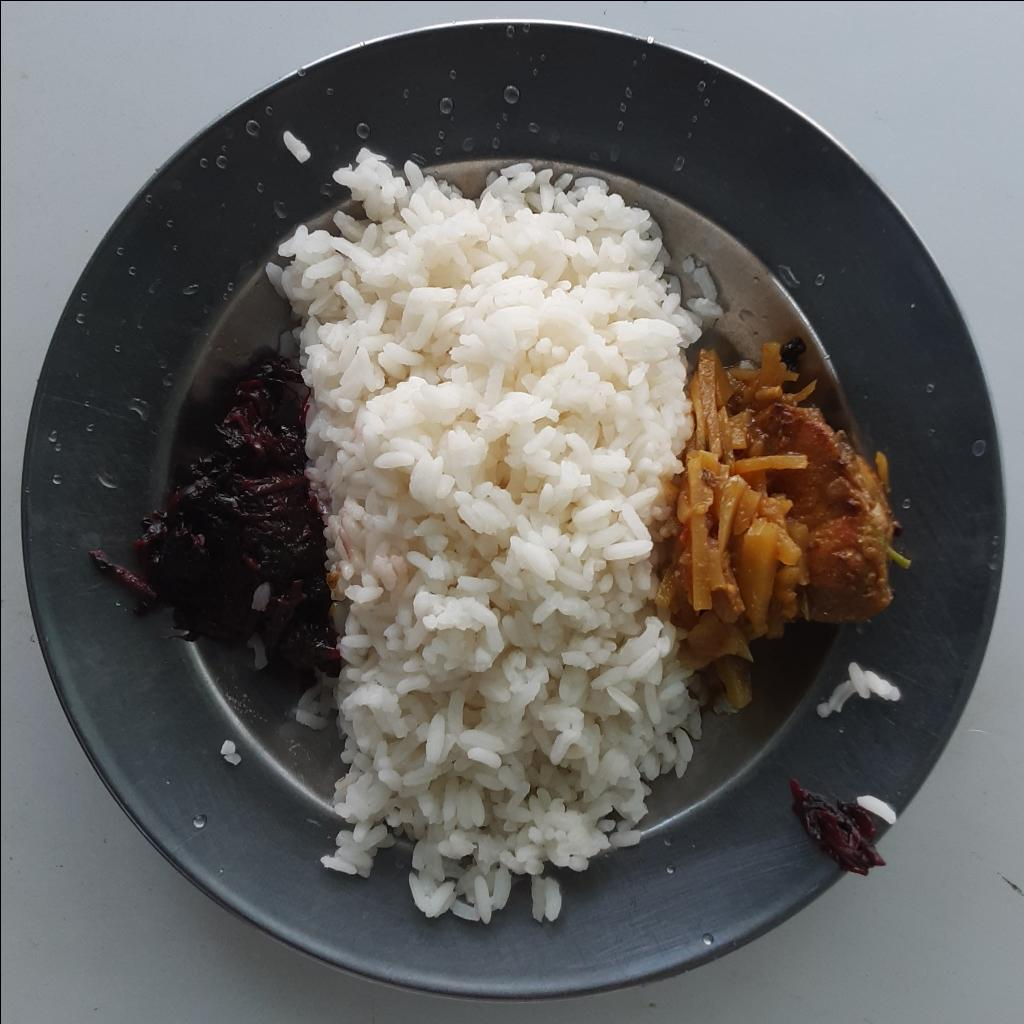fish: (748, 405, 893, 626)
lal-shak: (95, 352, 335, 683), (788, 780, 891, 869)
potato: (651, 341, 821, 710)
rice: (264, 148, 723, 924), (815, 654, 899, 707), (850, 794, 894, 828), (280, 125, 316, 156)
